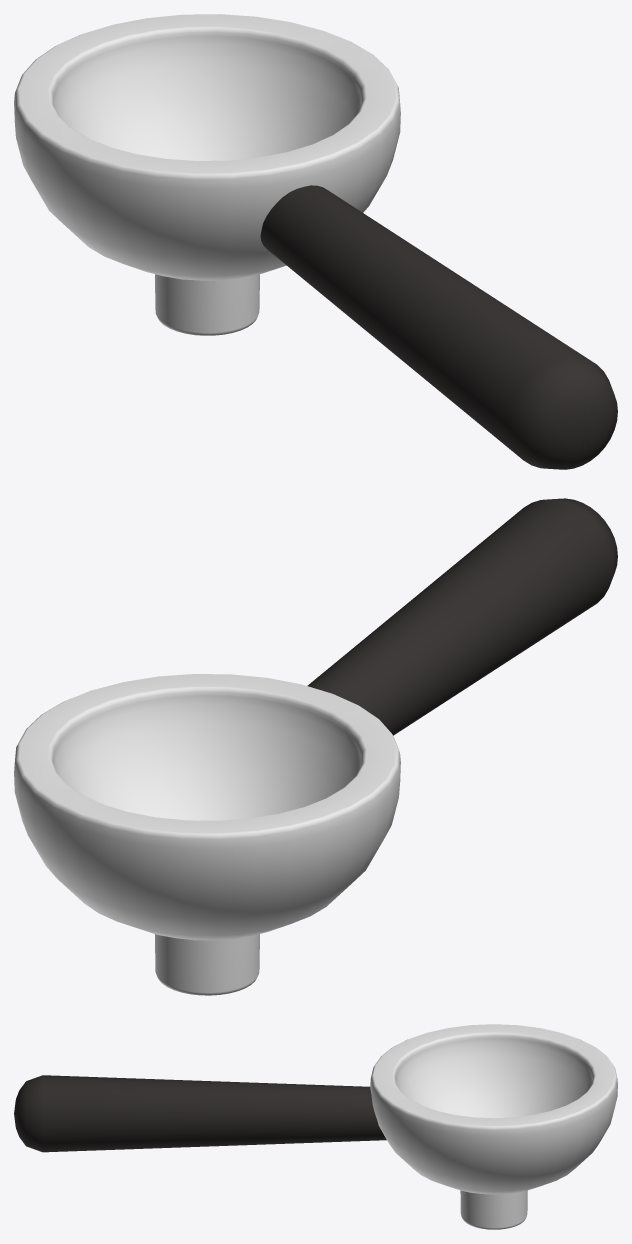
Rendered from SM_portafilter.glb.
3 views of the same model, one above another, from view 1: azimuth 30°, elevation 25°; view 2: azimuth 150°, elevation 25°; view 3: azimuth 270°, elevation 25° (orthographic). The views are drawn at different scales.
Visible parts, largest first — view 1: SM_portafilter; view 2: SM_portafilter; view 3: SM_portafilter.
Part boxes in pixels (left/top/right/bottom): SM_portafilter: left=14, top=14, right=617, bottom=469; SM_portafilter: left=14, top=498, right=617, bottom=995; SM_portafilter: left=14, top=1024, right=617, bottom=1229.
Bounding box in the file's own units: 0.144 × 0.091 × 0.351.
1 material, 1 textured.
